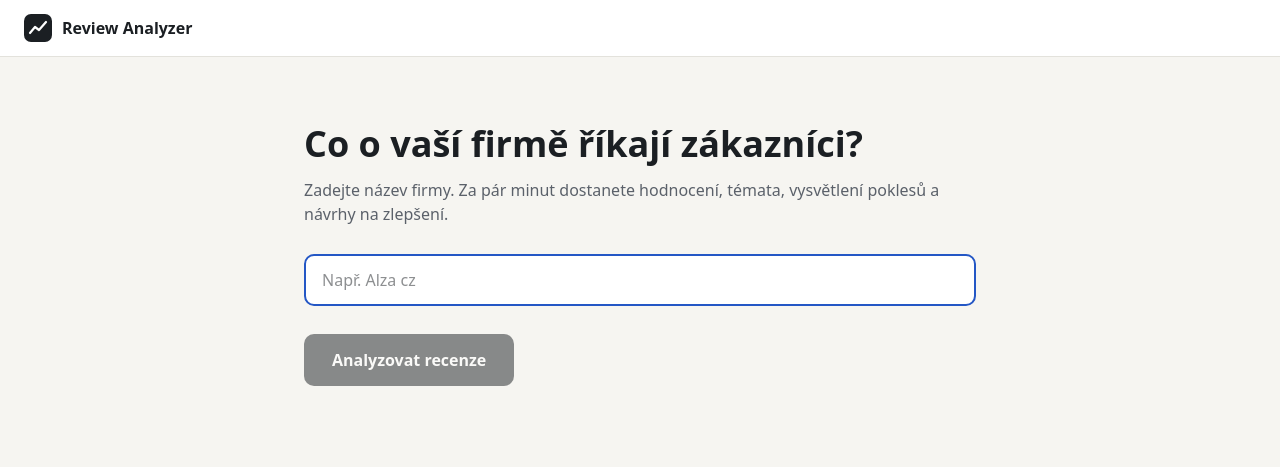
Test: choosing one Place › shows why a Run could not start and allows another try
Type "kav" into the search field. click: [640, 280]
box: left=304, top=254, right=976, bottom=306
Wait 400 ms
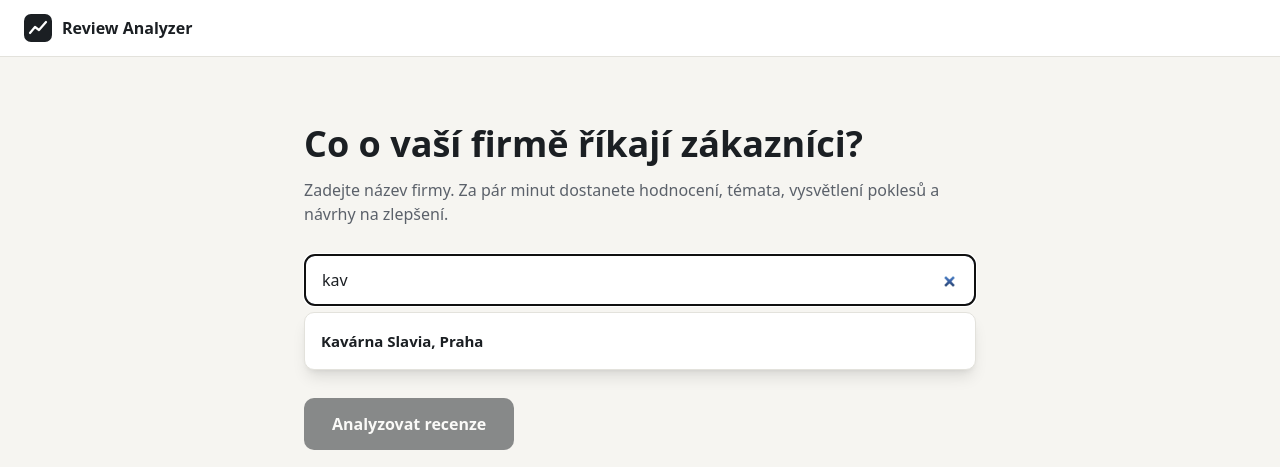
Click the button "Kavárna Slavia, Praha". click: [402, 341]
box: left=305, top=313, right=975, bottom=369
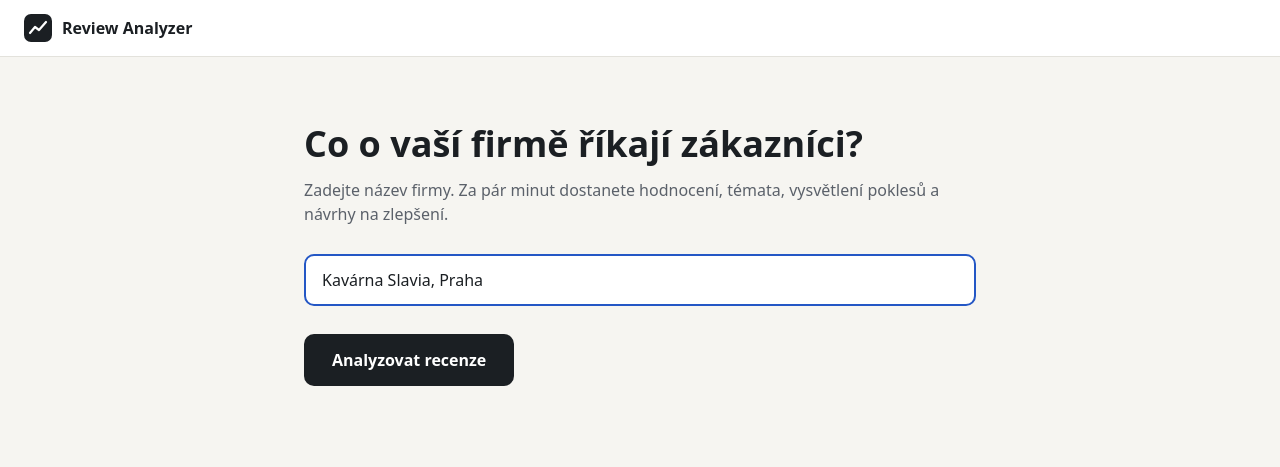
Click the button "Analyzovat recenze". click: [409, 360]
box: left=304, top=334, right=514, bottom=386
Wait 400 ms
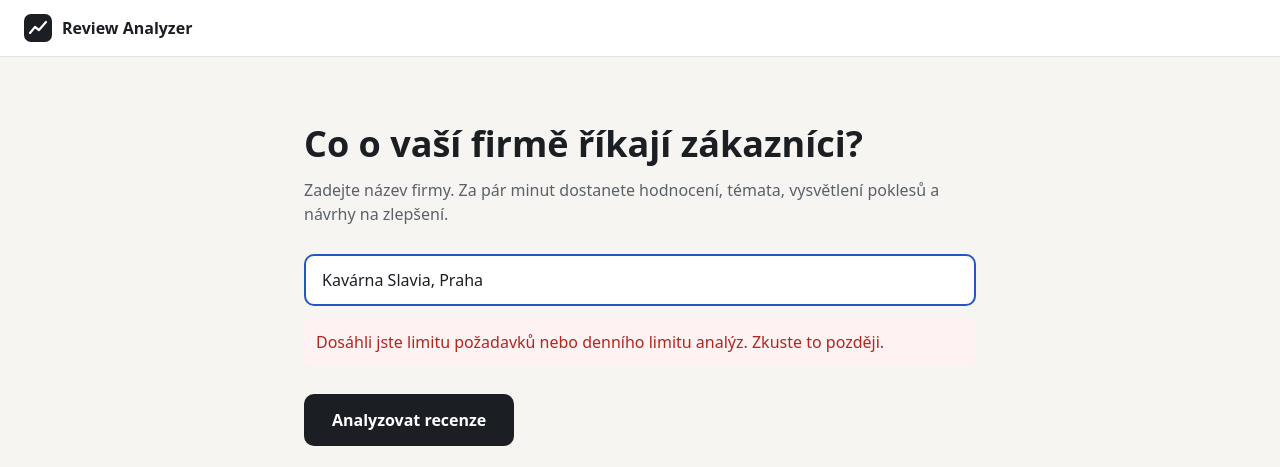
Expected: the button "Analyzovat recenze" is enabled, left=304, top=394, right=514, bottom=446
Expected: the message shows "limit", left=316, top=331, right=884, bottom=353
